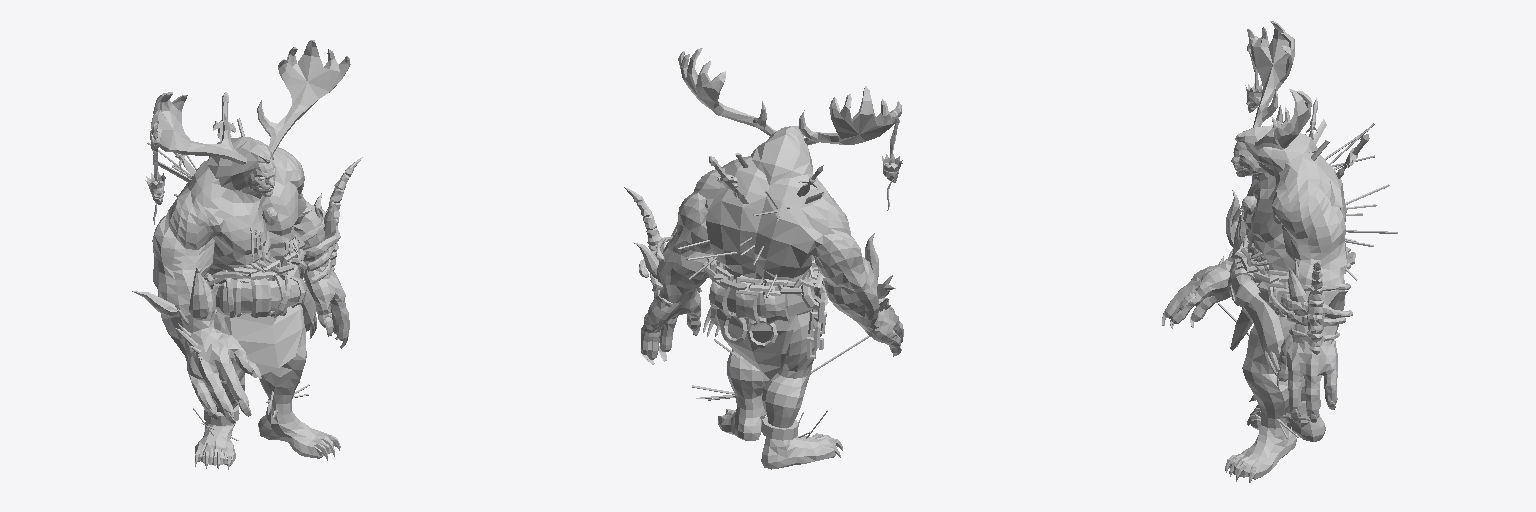
Rendered from walking_000002.obj.
3 views of the same model, side by side, from view 1: azimuth 30°, elevation 25°; view 2: azimuth 150°, elevation 25°; view 3: azimuth 270°, elevation 25° (orthographic).
Visible parts, largest first — view 1: MAW; view 2: MAW; view 3: MAW.
Part boxes in pixels (x1,y1,x2,y2): MAW: (132,40,362,469); MAW: (624,48,903,469); MAW: (1162,21,1397,482).
Size of the model in its own units: 15.64 by 23.29 by 12.66.